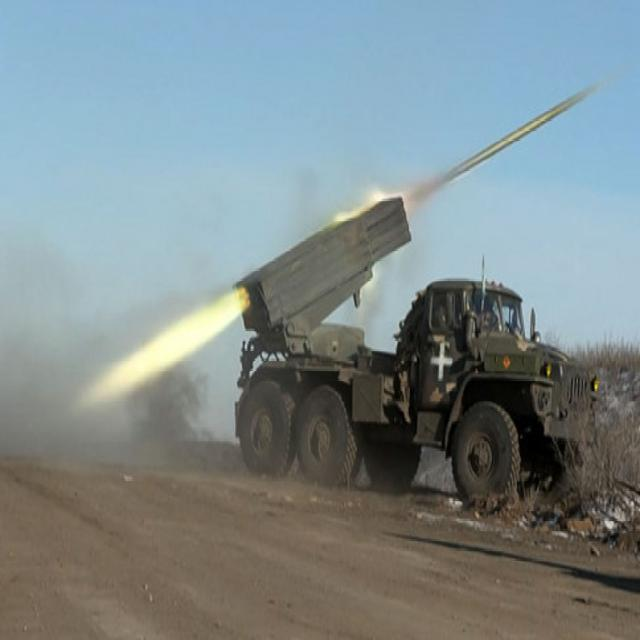MLRS: (233, 189, 598, 505)
